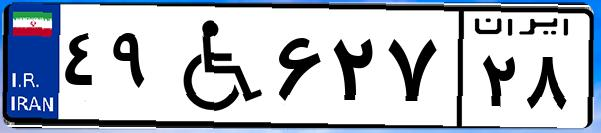2: (330, 28, 385, 110), (475, 38, 525, 113)
4: (57, 26, 110, 100)
6: (270, 28, 330, 110)
7: (385, 28, 445, 110)
8: (525, 38, 570, 115)
9: (110, 28, 158, 98)
ژ (معلولین و جانبازان): (158, 12, 270, 120)
